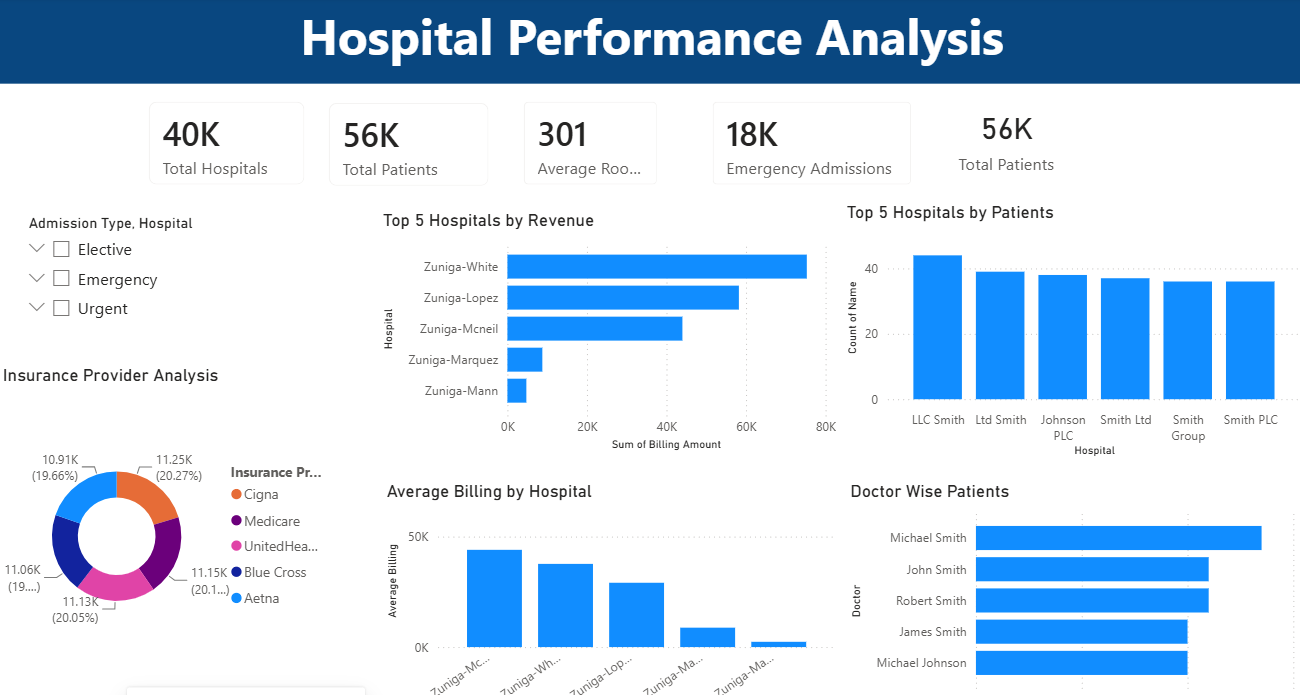

The dashboard page shown, as its layout file describes it:
{"tool":"powerbi","page":{"name":"Hospital Performance Dashboard","canvas":[1280,720],"ordinal":1},"visuals":[{"type":"cardVisual","fields":{"Data":["healthcare_analytics_final.Average Room Number"]},"box":[497.8,85.3,165,115.2],"z":0},{"type":"card","fields":{"Values":["healthcare_analytics_final.Total Patients"]},"box":[896,85.3,180.6,105.2],"z":1000},{"type":"cardVisual","fields":{"Data":["healthcare_analytics_final.Emergency Admissions"]},"box":[682.7,85.3,229,115.2],"z":2000},{"type":"cardVisual","fields":{"Data":["healthcare_analytics_final.Total Hospitals"]},"box":[130.8,85.3,186.3,115.2],"z":3000},{"type":"cardVisual","fields":{"Data":["healthcare_analytics_final.Total Patients"]},"box":[307.2,86.8,190.6,115.2],"z":4000},{"type":"textbox","box":[0,0,1279.7,85.1],"z":5000},{"type":"clusteredBarChart","title":"Top 5 Hospitals by Revenue","fields":{"Category":["healthcare_analytics_final.Hospital"],"Y":["Sum(healthcare_analytics_final.Billing Amount)"]},"box":[372.2,207.8,453,240.9],"z":6000},{"type":"clusteredColumnChart","title":"Top 5 Hospitals by Patients","fields":{"Category":["healthcare_analytics_final.Hospital"],"Y":["CountNonNull(healthcare_analytics_final.Name)"]},"box":[825.3,200.5,454.5,253.9],"z":7000},{"type":"donutChart","title":"Insurance Provider Analysis","fields":{"Category":["healthcare_analytics_final.Insurance Provider"],"Y":["CountNonNull(healthcare_analytics_final.Name)"]},"box":[0,359.8,328.5,317.2],"z":8000},{"type":"barChart","title":"Doctor Wise Patients","fields":{"Category":["healthcare_analytics_final.Doctor"],"Y":["CountNonNull(healthcare_analytics_final.Name)"]},"box":[829.4,473.4,450.3,242.1],"z":9000},{"type":"columnChart","fields":{"Category":["healthcare_analytics_final.Hospital"],"Y":["healthcare_analytics_final.Average Billing"]},"box":[375.1,473.2,450.1,246.7],"z":10000},{"type":"slicer","fields":{"Values":["healthcare_analytics_final.Admission Type","healthcare_analytics_final.Hospital"]},"box":[17.1,207.6,290.1,125.2],"z":11000}]}

Visuals, with their boxes on the page's 1280x720 design canvas (x1, y1, x2, y2). These are canvas units, not pixel positions in the 1300x695 screenshot, which may show the page scaled, cropped or inside an application window:
cardVisual - healthcare_analytics_final.Average Room Number: [498, 85, 663, 200]
card - healthcare_analytics_final.Total Patients: [896, 85, 1077, 190]
cardVisual - healthcare_analytics_final.Emergency Admissions: [683, 85, 912, 200]
cardVisual - healthcare_analytics_final.Total Hospitals: [131, 85, 317, 200]
cardVisual - healthcare_analytics_final.Total Patients: [307, 87, 498, 202]
textbox: [0, 0, 1280, 85]
"Top 5 Hospitals by Revenue" clusteredBarChart: [372, 208, 825, 449]
"Top 5 Hospitals by Patients" clusteredColumnChart: [825, 200, 1280, 454]
"Insurance Provider Analysis" donutChart: [0, 360, 328, 677]
"Doctor Wise Patients" barChart: [829, 473, 1280, 716]
columnChart - healthcare_analytics_final.Hospital x healthcare_analytics_final.Average Billing: [375, 473, 825, 720]
slicer - healthcare_analytics_final.Admission Type x healthcare_analytics_final.Hospital: [17, 208, 307, 333]
